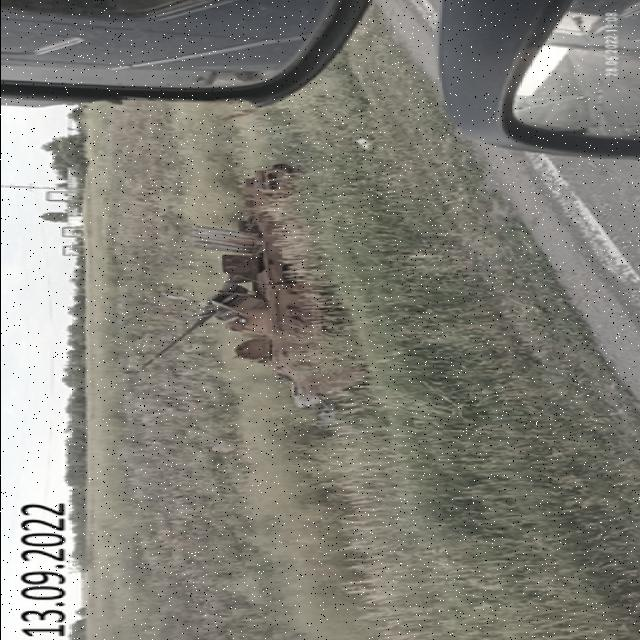APC-IFV: (184, 166, 384, 414)
